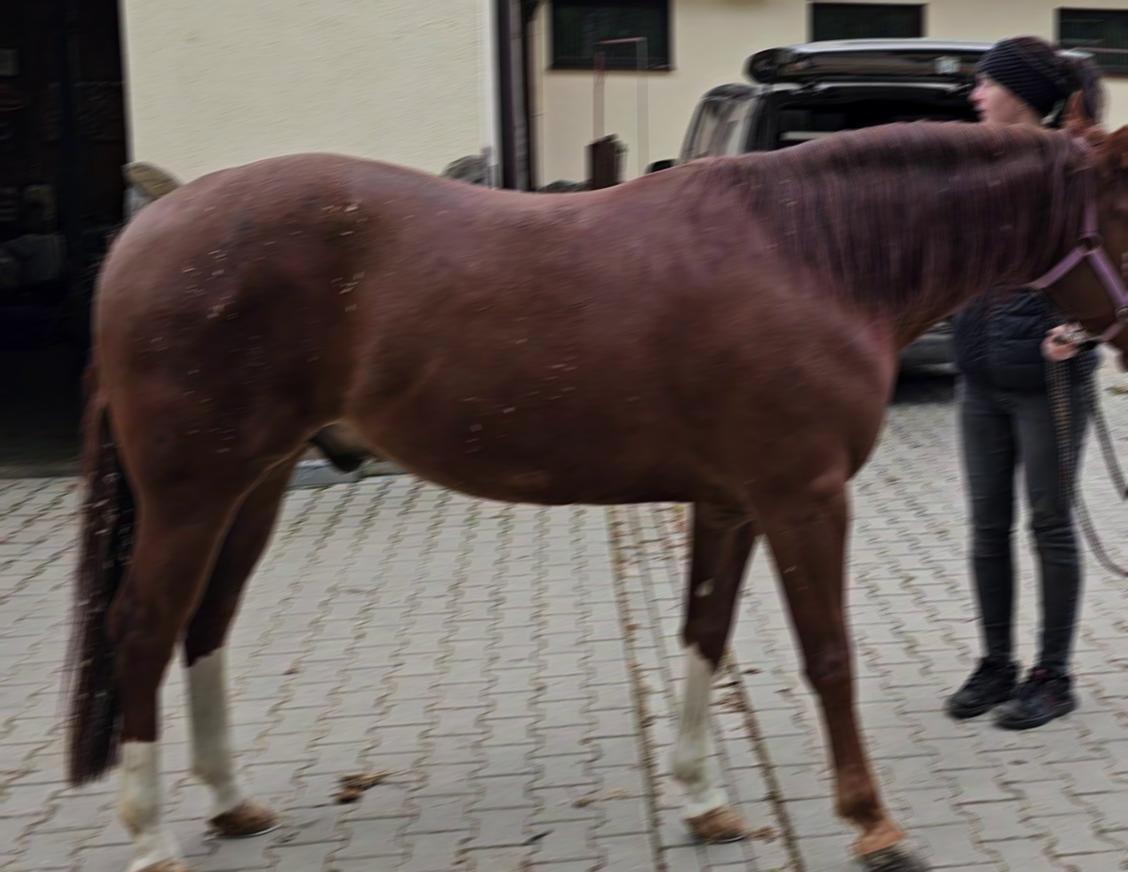horse: (59, 87, 1128, 870)
